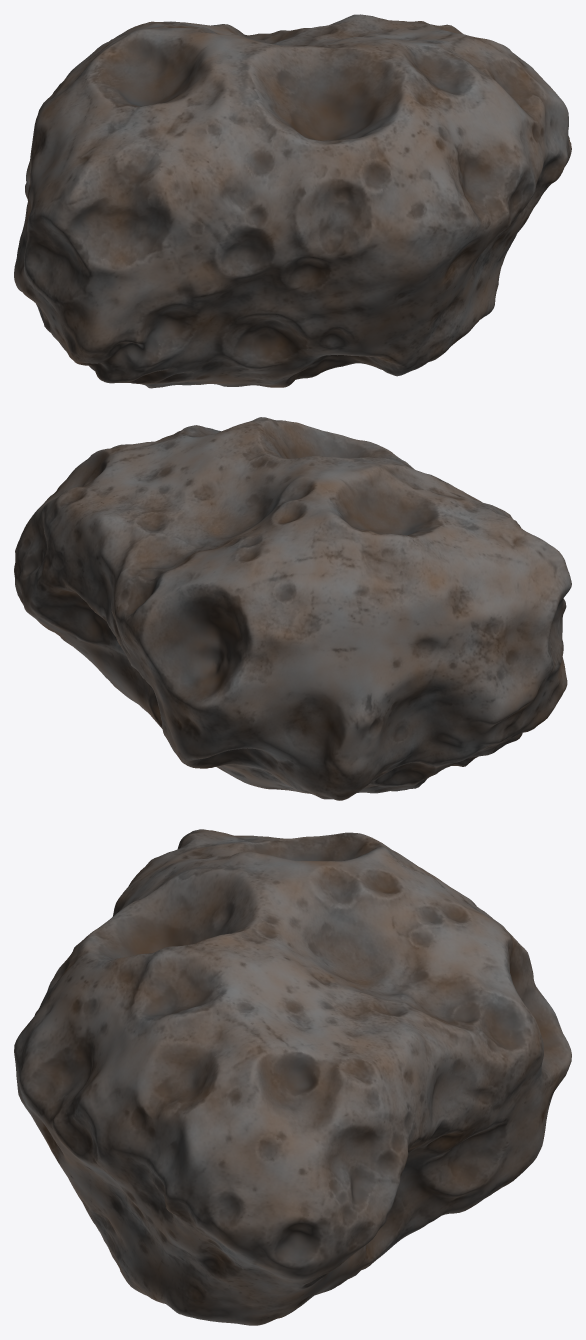
Rendered from meteorites.glb.
3 renders of one model, top to bottom at view 1: azimuth 30°, elevation 25°; view 2: azimuth 150°, elevation 25°; view 3: azimuth 270°, elevation 25°, orthographic. The views are drawn at different scales.
Visible parts, largest first — view 1: Meteorite; view 2: Meteorite; view 3: Meteorite.
Part boxes in pixels (bbox=[...]): Meteorite: bbox=[14, 14, 571, 388]; Meteorite: bbox=[14, 417, 571, 800]; Meteorite: bbox=[14, 829, 571, 1325].
Size of the model in its own units: 7.19 by 4.26 by 5.62.
1 material, 1 textured.
